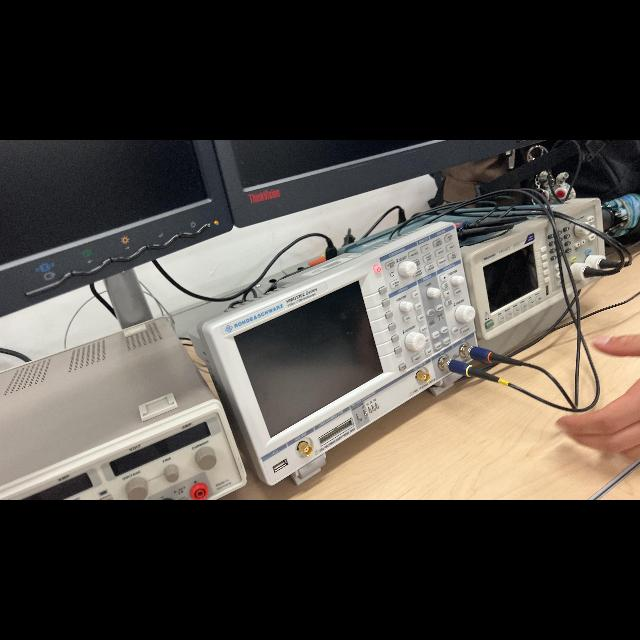Digital-Oscilloscope: (197, 222, 475, 485)
